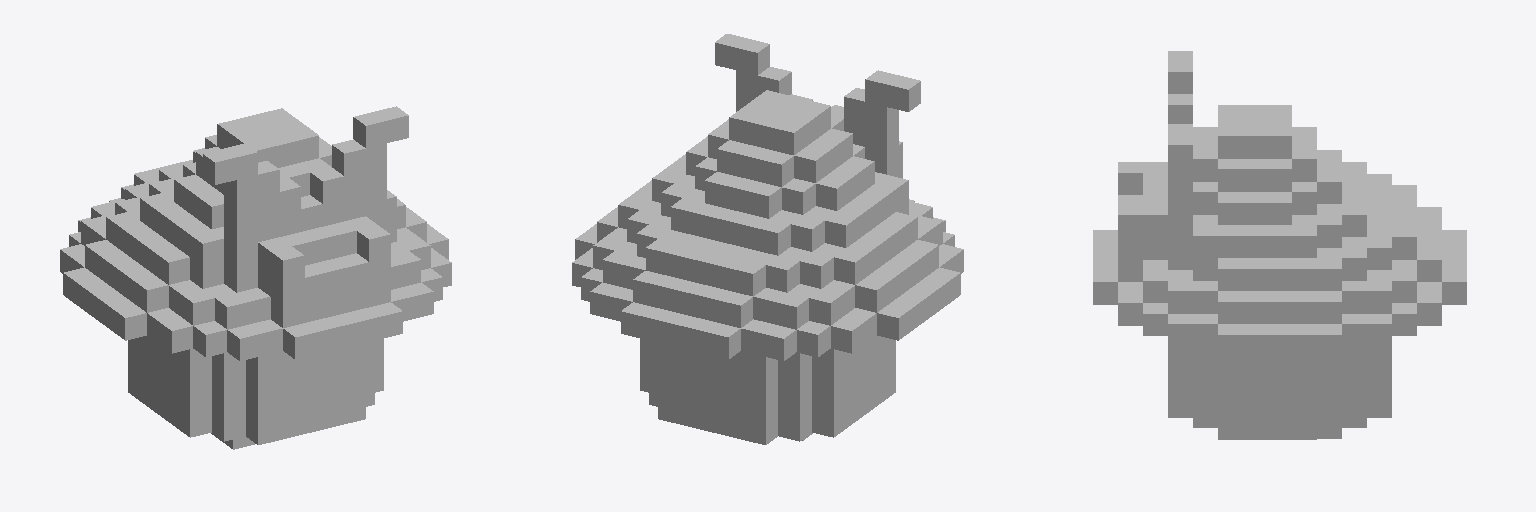
Rendered from menger.obj.
3 renders of one model, left to right at view 1: azimuth 30°, elevation 25°; view 2: azimuth 150°, elevation 25°; view 3: azimuth 270°, elevation 25°, orthographic.
Visible parts, largest first — view 1: object 1; view 2: object 1; view 3: object 1.
Part boxes in pixels (left/top/right/bottom): object 1: left=60, top=106, right=451, bottom=449; object 1: left=572, top=34, right=963, bottom=444; object 1: left=1093, top=51, right=1466, bottom=439.
Size of the model in its own units: 1.5 by 1.4 by 1.5.